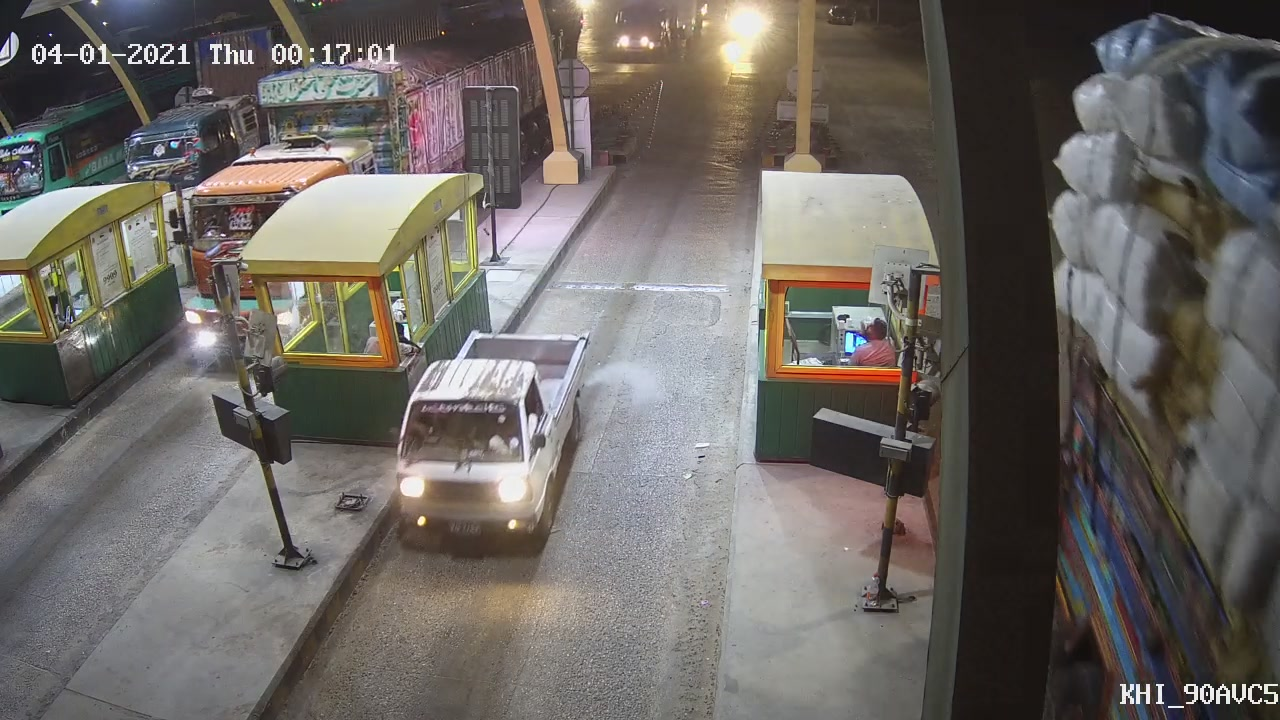F1: (394, 325, 598, 570)
